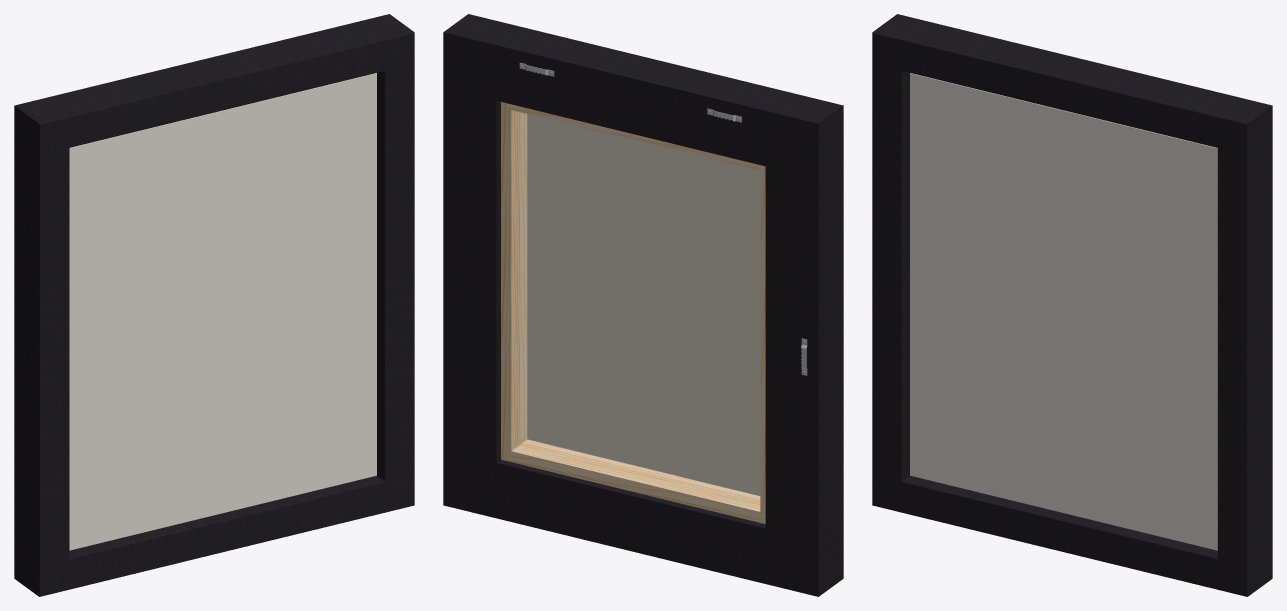
Rendered from delivery.glb.
3 renders of one model, left to right at view 1: azimuth 30°, elevation 25°; view 2: azimuth 150°, elevation 25°; view 3: azimuth 330°, elevation 25°, orthographic.
Visible parts, largest first — view 1: Canvas artwork front, Tray approved profile 0; view 2: Tray approved profile 0, Canvas linen reverse, Stretcher top, Sawtooth hanger 0; view 3: Canvas artwork front, Tray approved profile 0.
Boxes of the visible parts, x1,y1,x2,y2 form: Canvas artwork front: [69, 73, 376, 550]; Tray approved profile 0: [14, 14, 414, 596]; Tray approved profile 0: [443, 14, 843, 596]; Canvas linen reverse: [527, 114, 760, 495]; Stretcher top: [501, 102, 765, 523]; Sawtooth hanger 0: [519, 62, 807, 375]; Canvas artwork front: [910, 73, 1217, 550]; Tray approved profile 0: [872, 14, 1272, 596].
Bounding box in the file's own units: 0.488 × 0.588 × 0.0594.
7 materials, 3 textured.
